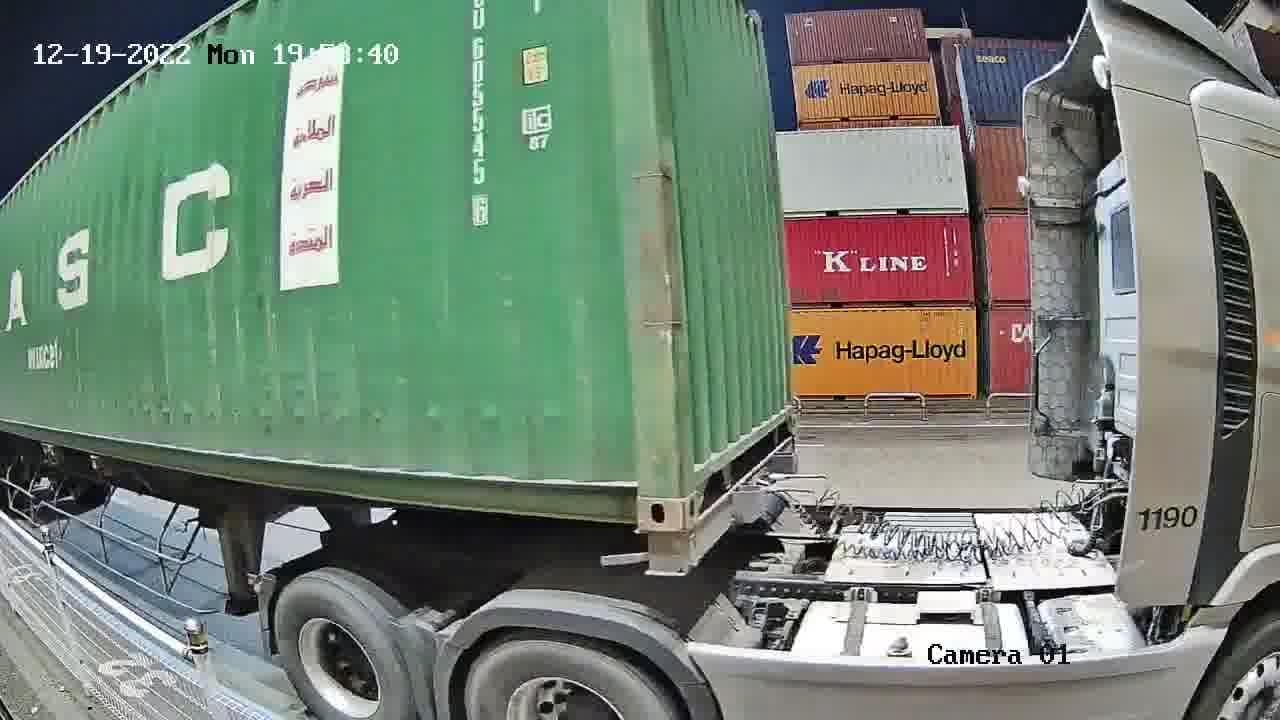Chassis: (636, 439, 798, 574)
Cone: (637, 532, 681, 575)
Hole_L: (681, 425, 723, 532)
Hole_R: (595, 449, 682, 533)
Tire: (275, 580, 408, 718), (464, 641, 674, 715)
